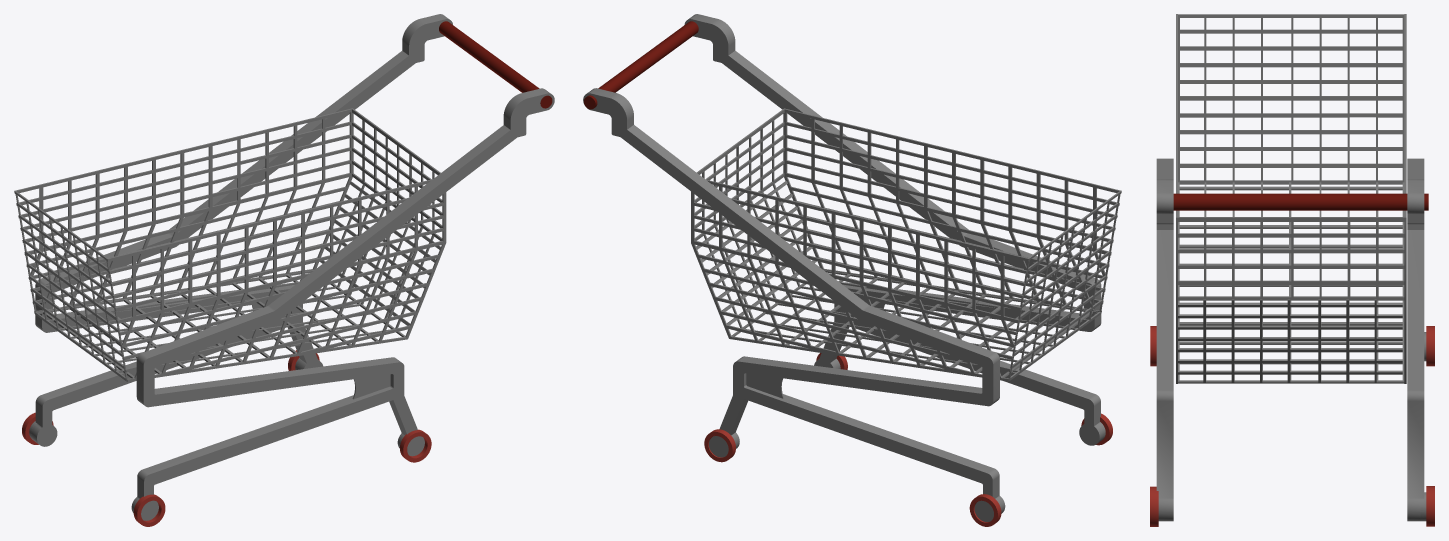
The model's file is shopping.fbx.
3 views of the same model, side by side, from view 1: azimuth 30°, elevation 25°; view 2: azimuth 150°, elevation 25°; view 3: azimuth 270°, elevation 25° (orthographic). The views are drawn at different scales.
Visible parts, largest first — view 1: PEN_MAT021_1, Surf_Wh011_1, PEN_MAT011_1; view 2: PEN_MAT021_1, Surf_Wh011_1, PEN_MAT011_1; view 3: PEN_MAT021_1, Surf_Wh011_1, PEN_MAT011_1.
Boxes of the visible parts, box(x1,y1,x2,y2) form: PEN_MAT021_1: box(14, 14, 554, 520); Surf_Wh011_1: box(439, 21, 552, 108); PEN_MAT011_1: box(22, 350, 431, 526); PEN_MAT021_1: box(583, 14, 1121, 521); Surf_Wh011_1: box(583, 21, 698, 109); PEN_MAT011_1: box(704, 353, 1112, 526); PEN_MAT021_1: box(1156, 14, 1426, 521); Surf_Wh011_1: box(1173, 193, 1428, 210); PEN_MAT011_1: box(1150, 326, 1434, 526).
Bounding box in the file's own units: 3.74 × 2.72 × 1.7.
